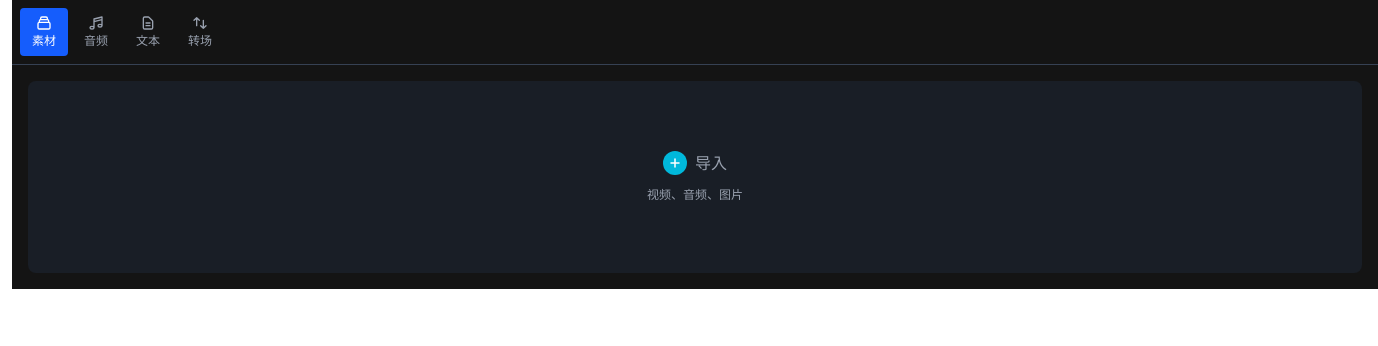
it: MediaLibrary › 6.1.8 测试返回上级 › should return to parent folder when back button clicked
// Create and enter folder
Right-click the element showing "导入 视频、音频、图片" at (695, 177), box [28, 81, 1362, 273]
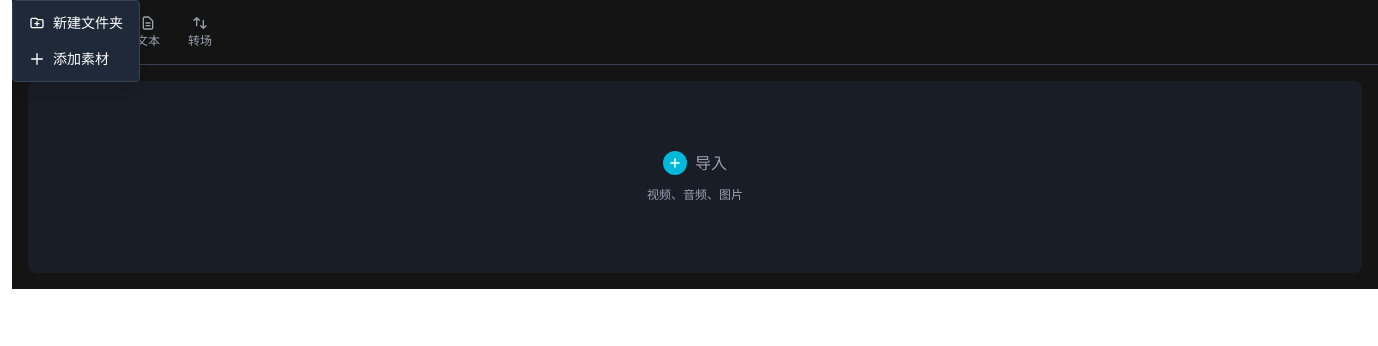
Click the button "新建文件夹" at (76, 23), box [13, 5, 139, 41]
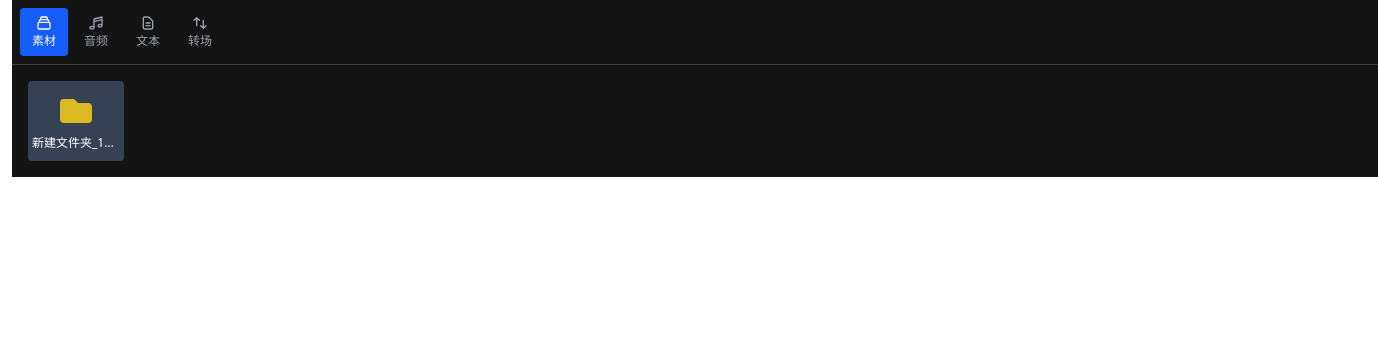
Double-click the text "新建文件夹_1772621041456" at (76, 121), box [28, 81, 124, 161]
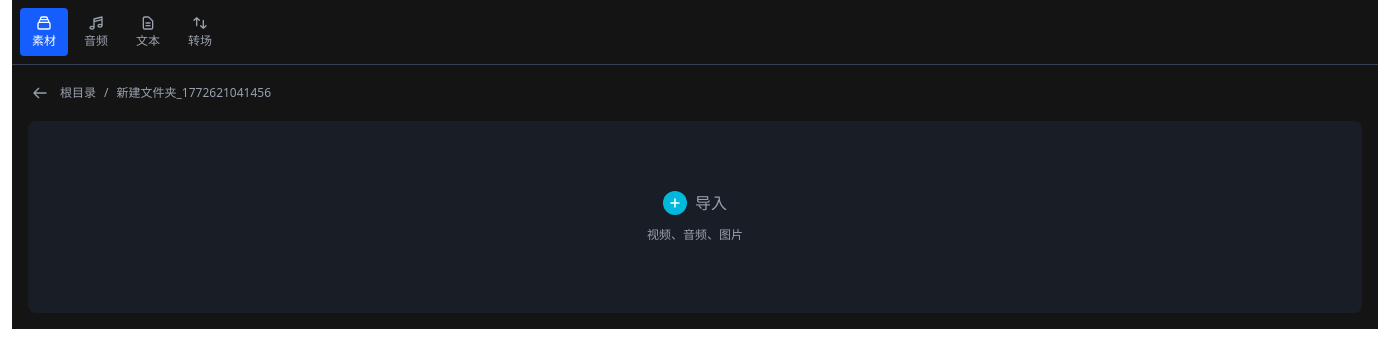
// Click back button
Click the button titled "返回上一级" at (40, 93), box [28, 81, 52, 105]
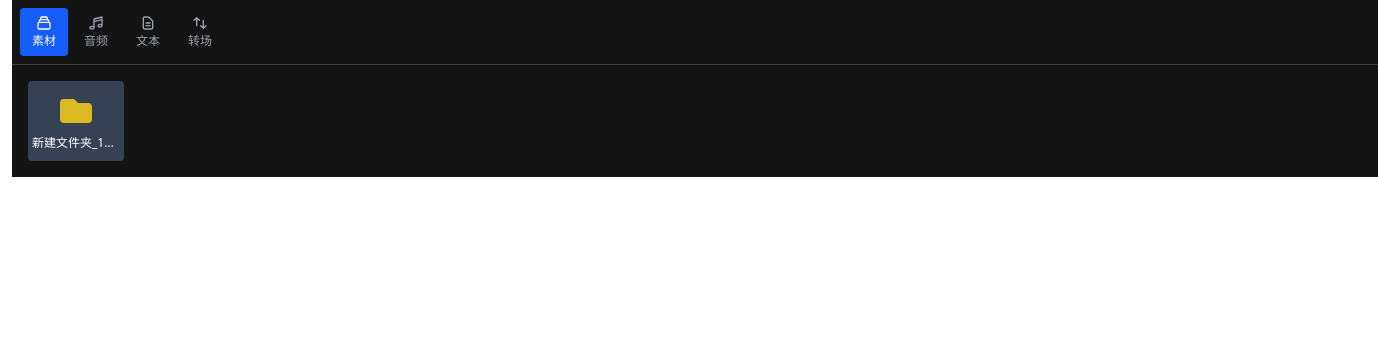
expect the button "根目录" is gone: met
